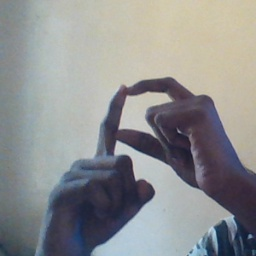D: (86, 71, 209, 201)
